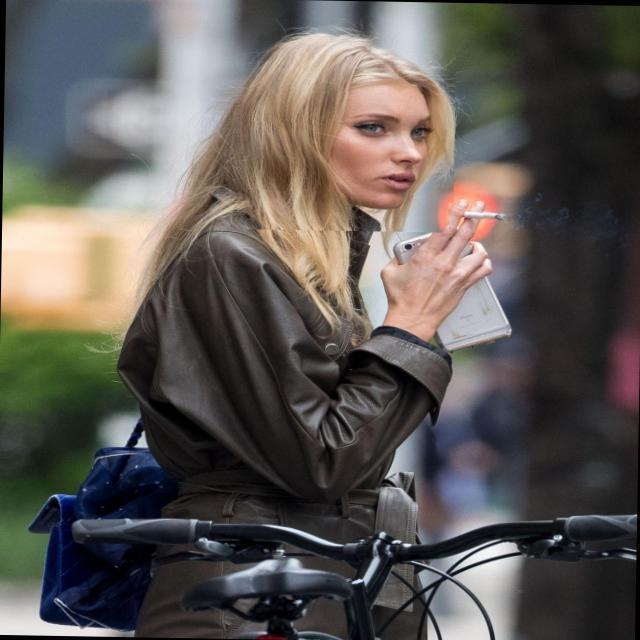cigarette: (448, 202, 524, 238)
